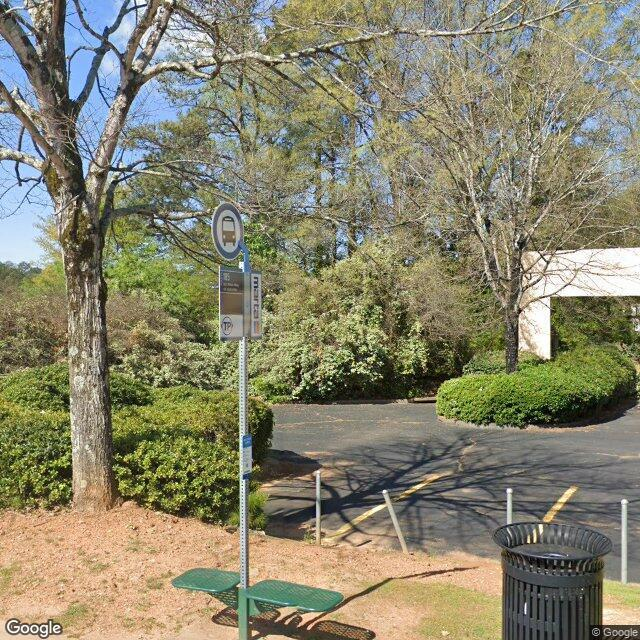seating: (168, 564, 344, 621)
trash_can: (491, 522, 612, 640)
